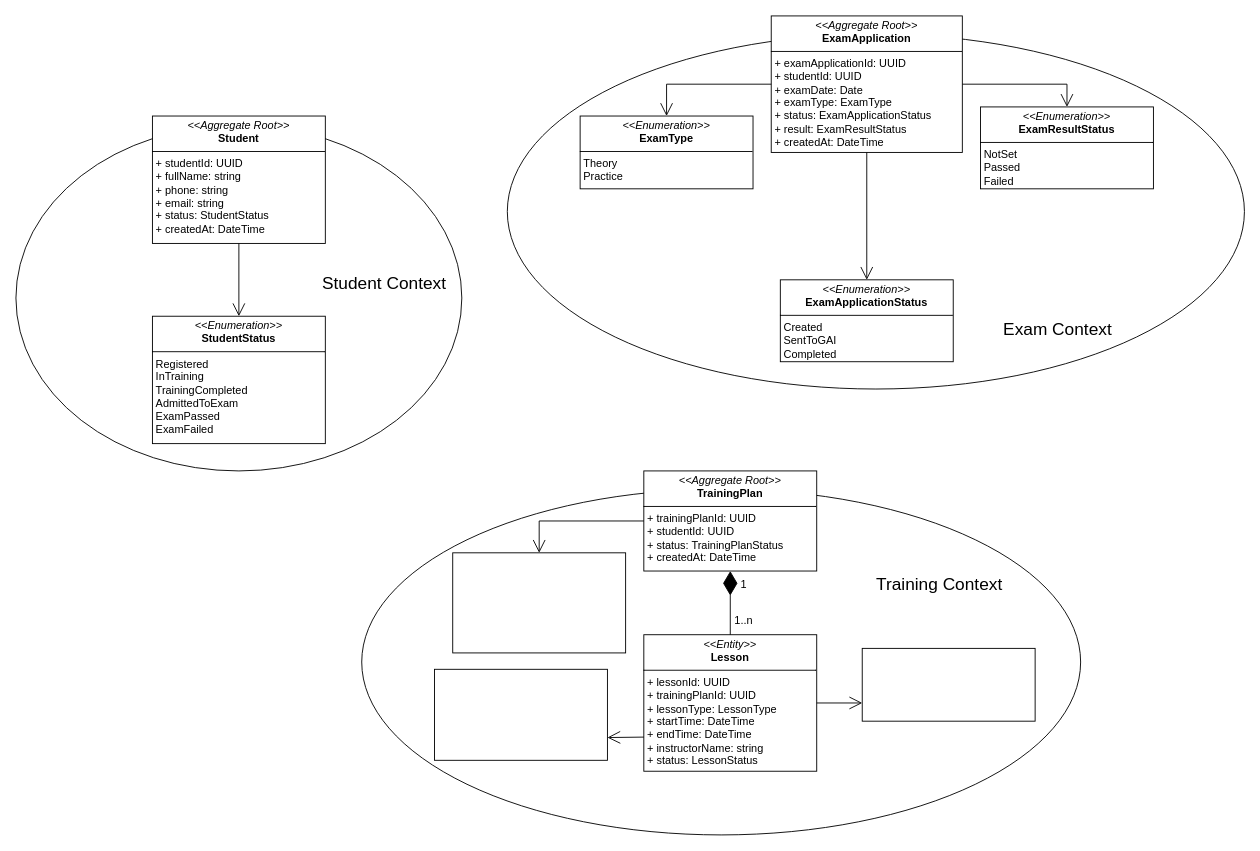
Image size: 1260x851. Some labels were removed from this diagram. The shapes that lost their labels are listed below. From the top down, each one's box as (x1, y1, x2, y2) in pixels, then its label:
(452, 552, 626, 653): <<Enumeration>> TrainingPlanStatus Draft Proposed Approved Completed
(861, 647, 1035, 721): <<Enumeration>> LessonType Theory Practice
(434, 668, 607, 760): <<Enumeration>> LessonStatus Planned Completed Cancelled
